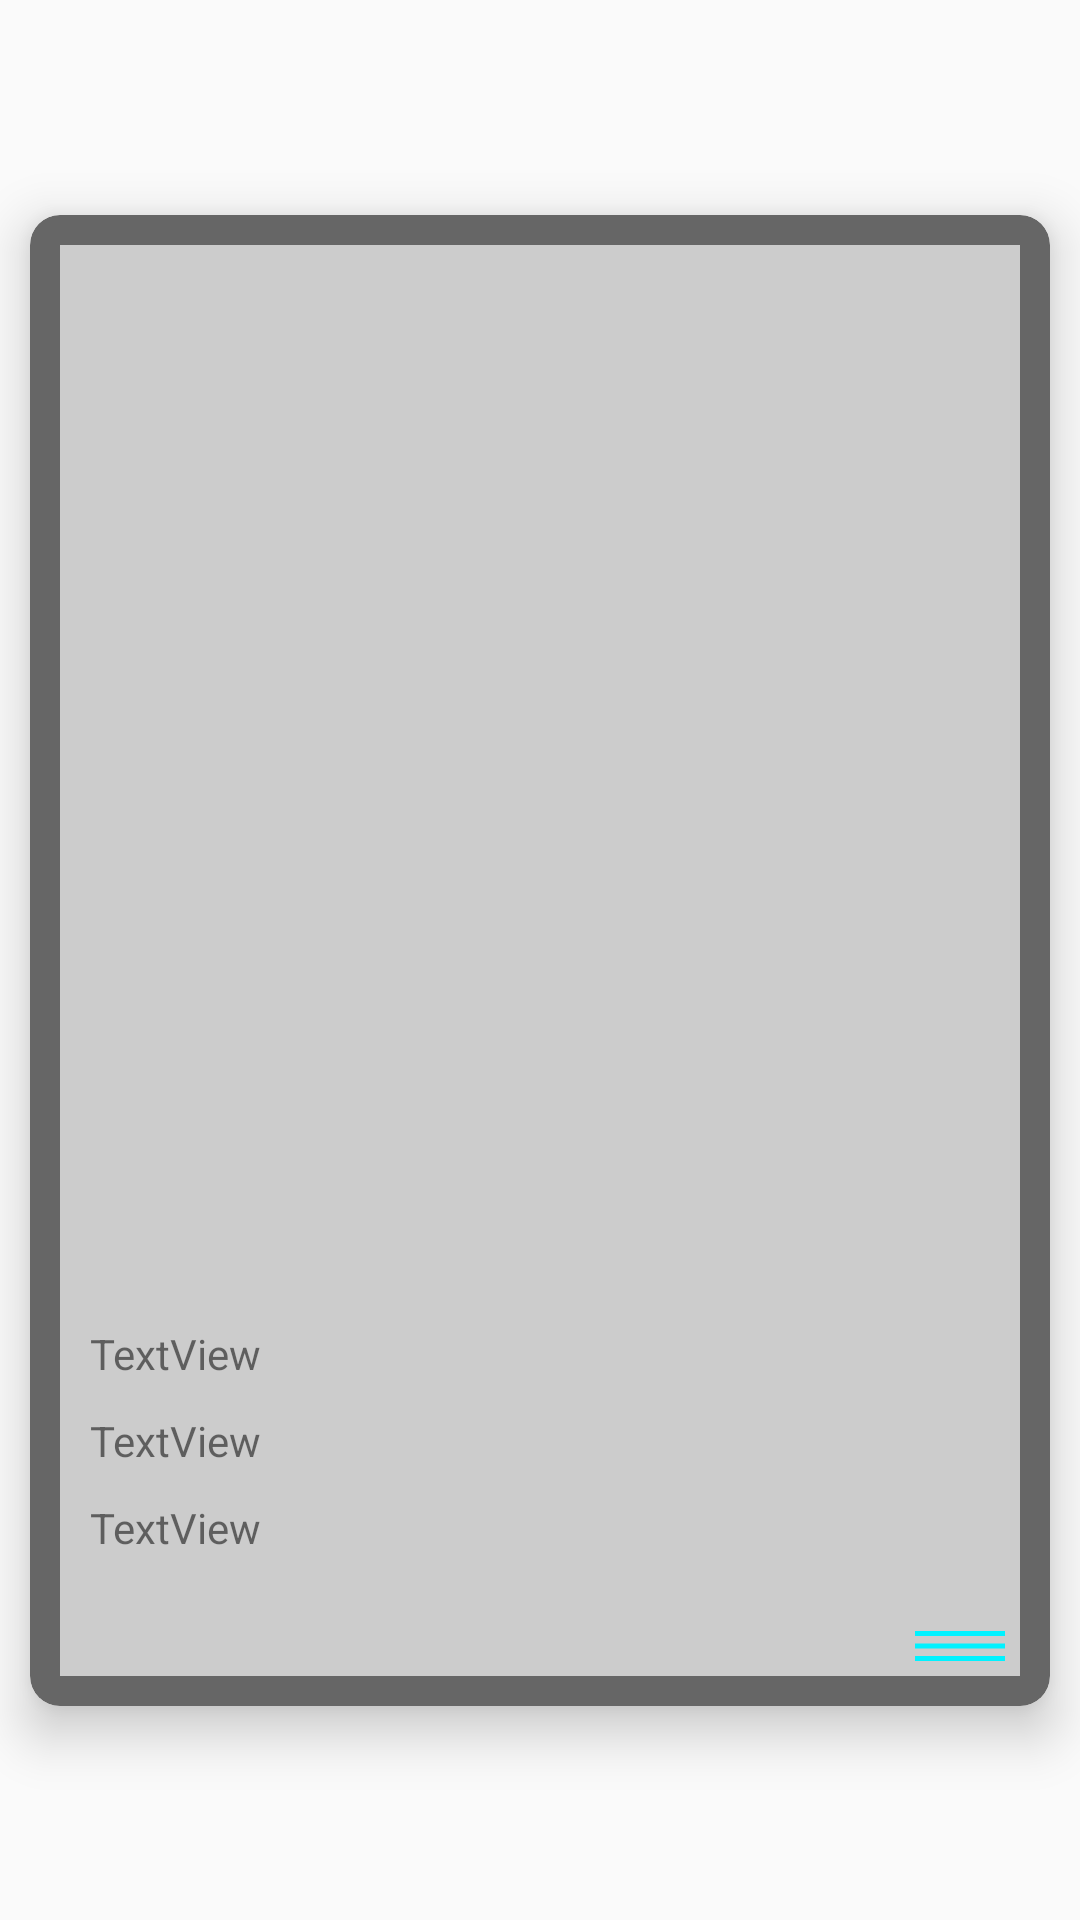

Icon bounding boxes for this 1080*1920 phone screenshot, format (x1, y1, x2, y2):
menu: (915, 1631, 1005, 1661)
